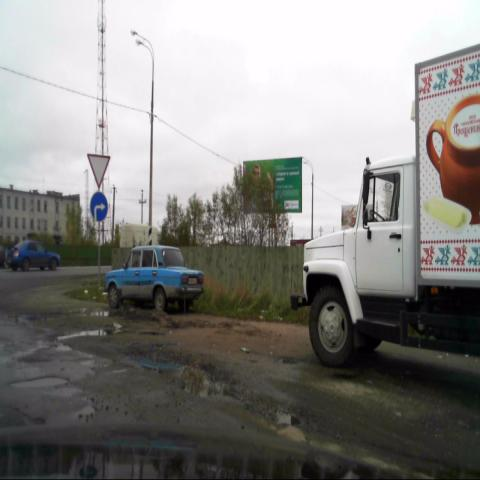2_4: (87, 153, 110, 191)
4_1_2: (90, 192, 108, 222)
